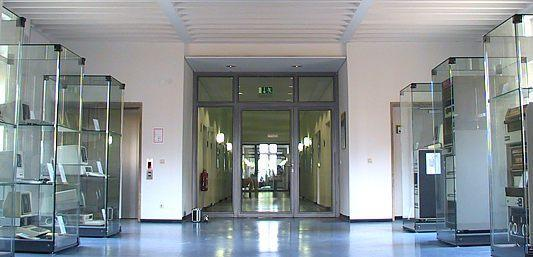Puerta: (236, 108, 299, 217)
